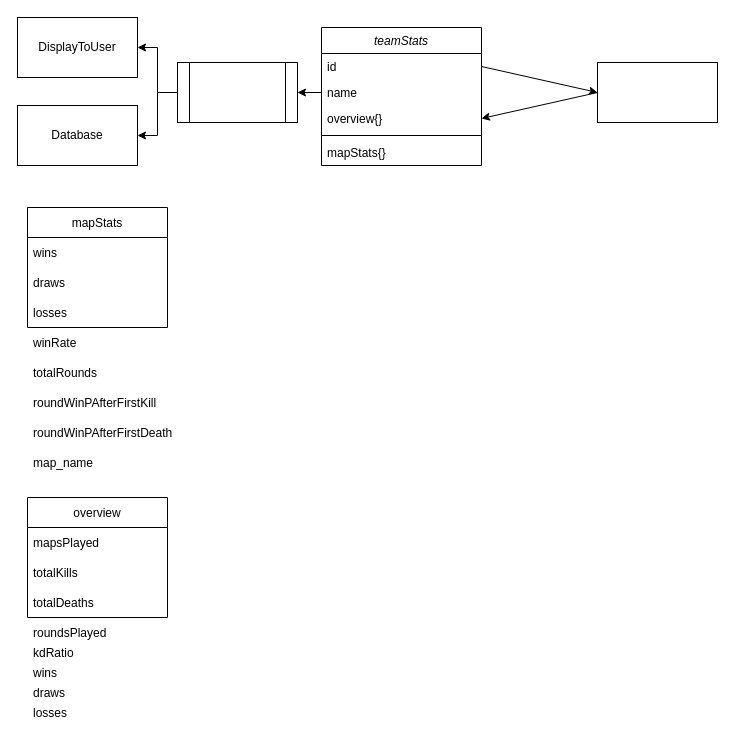
The diagram is 735 pixels wide and 745 high, and some of its shapes have lost their labels. The shapes that lost their labels are listed below. From the top down, each one's centre as x and y in pixels, then its label:
At point (237, 92): "convertToDB".
At point (657, 92): "HLTV".
